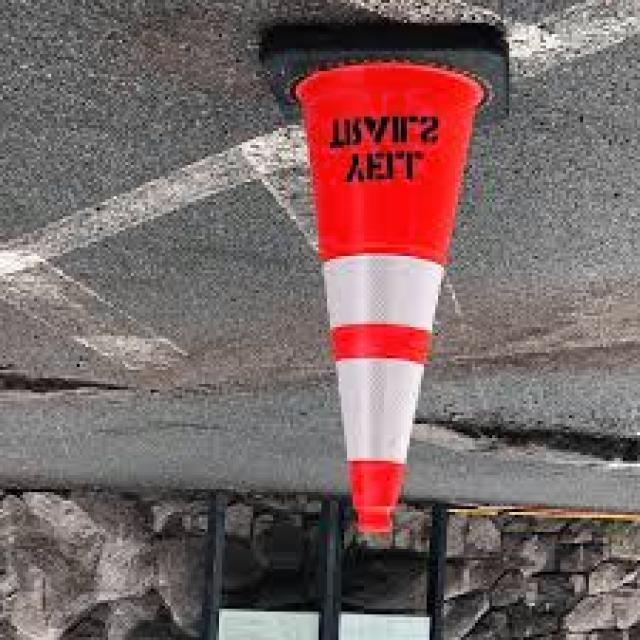cone: (275, 27, 516, 547)
